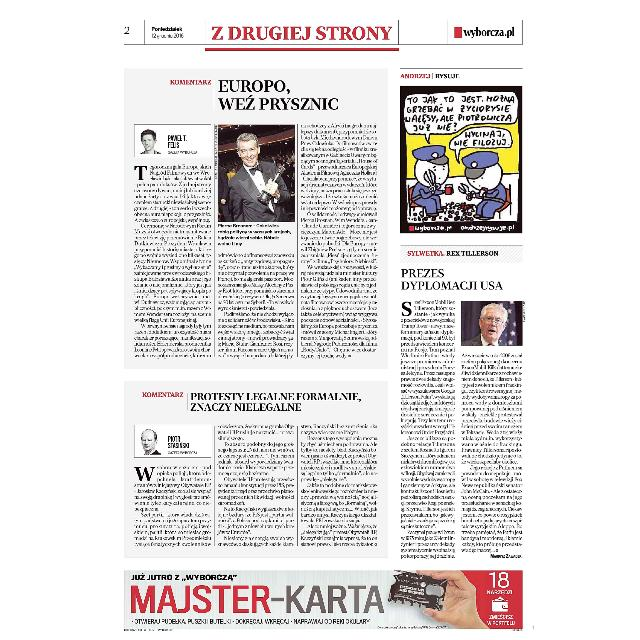article: (122, 65, 388, 372), (122, 379, 388, 557), (399, 266, 525, 560)
